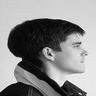ear: (37, 41, 60, 67)
